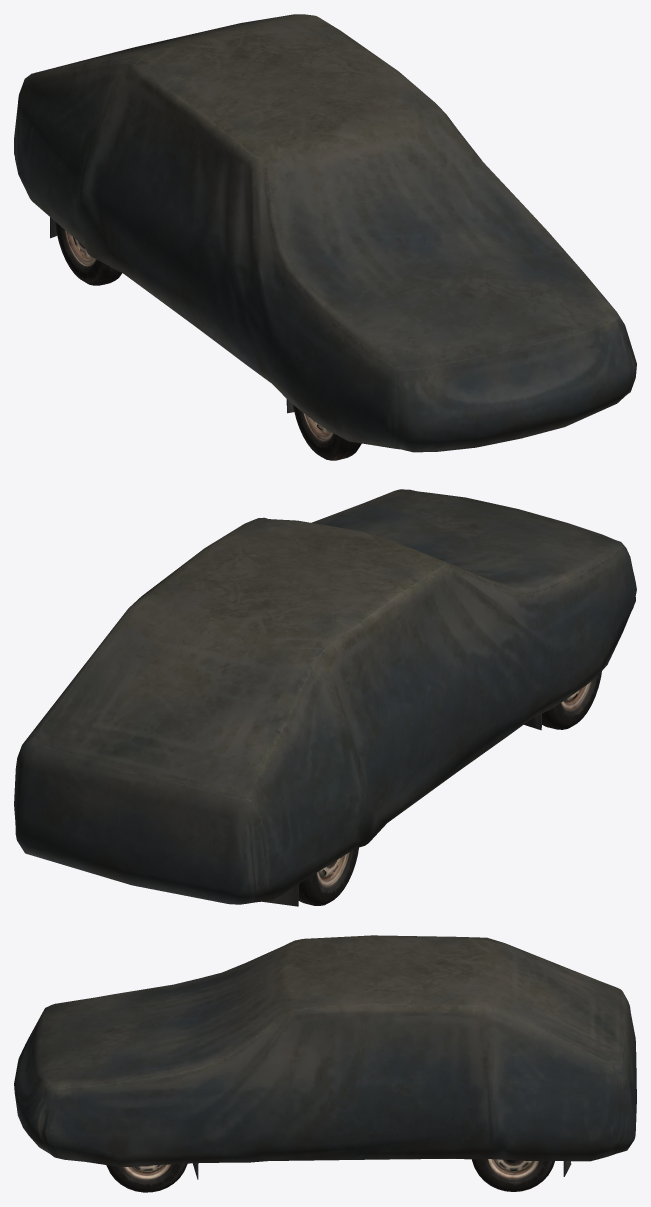
Rendered from covered_car.glb.
The picture shows the model from 3 angles, top to bottom: view 1: azimuth 30°, elevation 25°; view 2: azimuth 150°, elevation 25°; view 3: azimuth 270°, elevation 25°; orthographic projection. The views are drawn at different scales.
Visible parts, largest first — view 1: covered_car, covered_car_wheel_03, covered_car_wheel_02; view 2: covered_car, covered_car_wheel_03, covered_car_wheel_02; view 3: covered_car, covered_car_wheel_04, covered_car_wheel_01.
Part boxes in pixels (<box>): covered_car: <box>14,14,636,452</box>; covered_car_wheel_03: <box>55,222,121,285</box>; covered_car_wheel_02: <box>293,405,361,460</box>; covered_car: <box>14,489,636,906</box>; covered_car_wheel_03: <box>298,847,358,905</box>; covered_car_wheel_02: <box>542,671,601,729</box>; covered_car: <box>14,935,636,1179</box>; covered_car_wheel_04: <box>472,1159,554,1191</box>; covered_car_wheel_01: <box>106,1163,187,1192</box>.
Size of the model in its own units: 1.79 by 1.41 by 4.38.
1 material, 1 textured.
